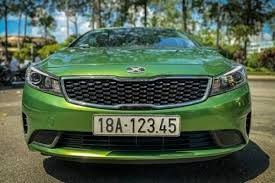number-plate: (93, 116, 180, 134)
